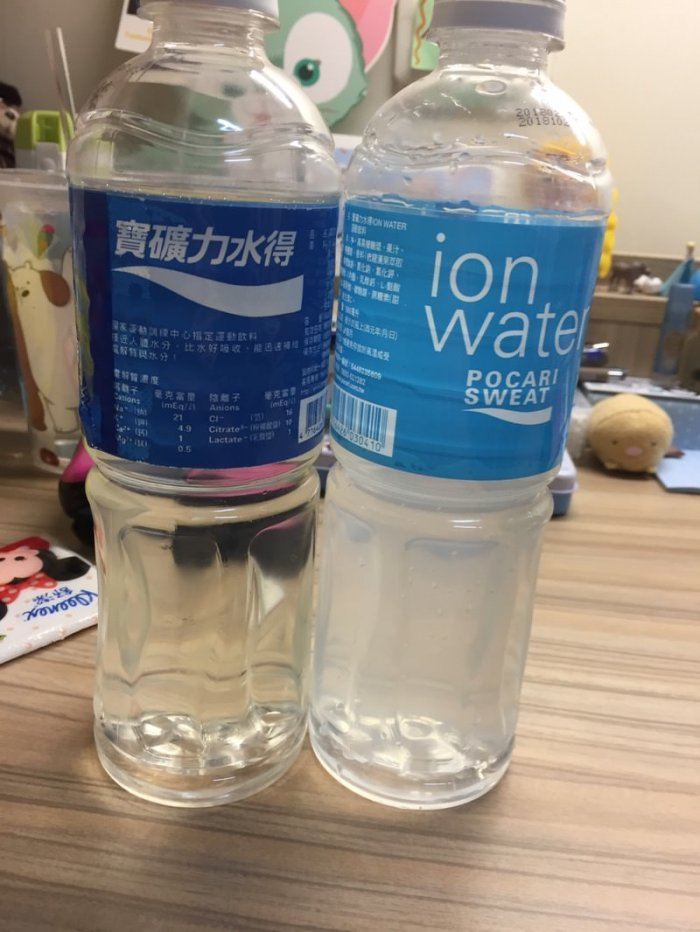POCARI SWEAT: (55, 1, 334, 811)
